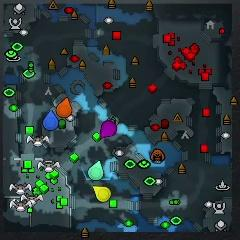p1: (44, 109, 58, 130)
p2: (88, 160, 104, 180)
p3: (100, 120, 117, 138)
p4: (93, 185, 111, 202)
p5: (56, 97, 71, 117)
